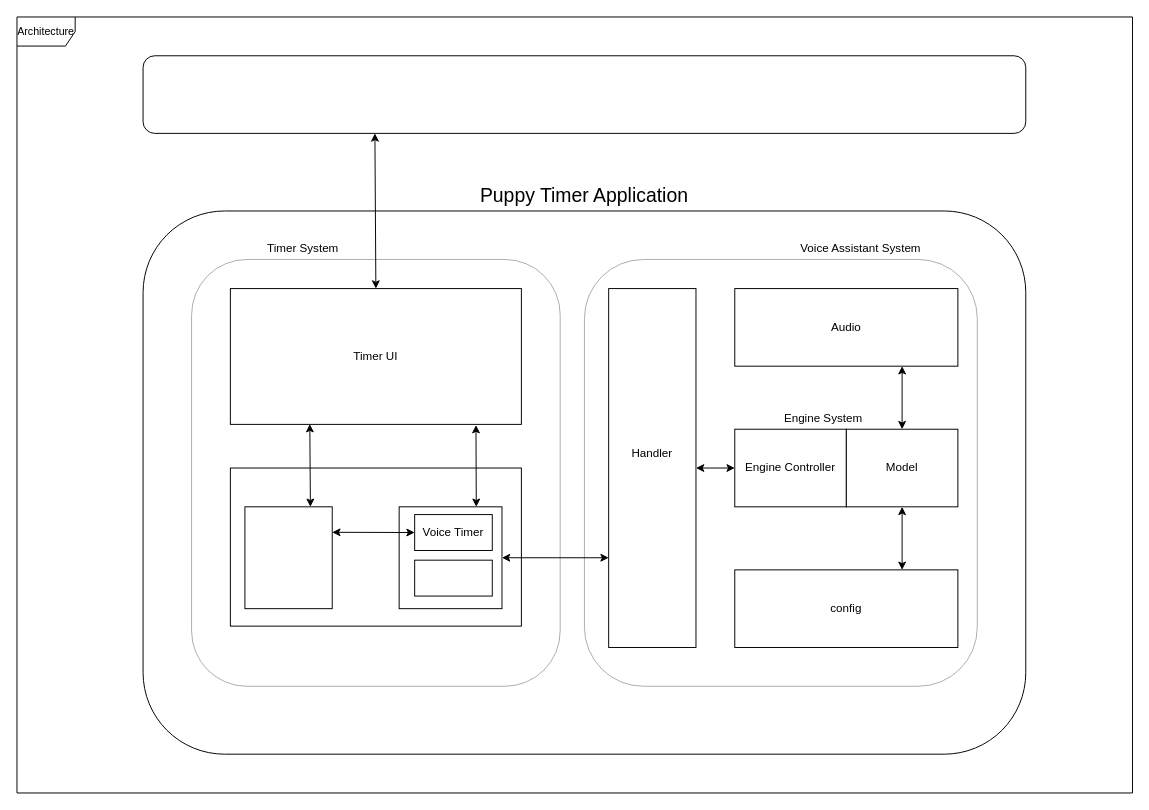
This 1149x810 diagram has some shape labels left out. The shapes that lost their labels are listed below. From the top down, each one's centre as x and y in pixels, then its label:
the point at 584,94: User
the point at 288,557: Timer Controller
the point at 453,577: Wake Word
